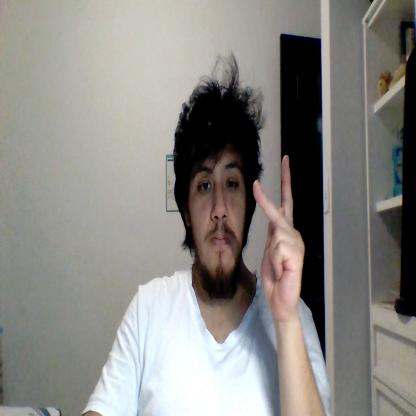P: (253, 154, 305, 316)
